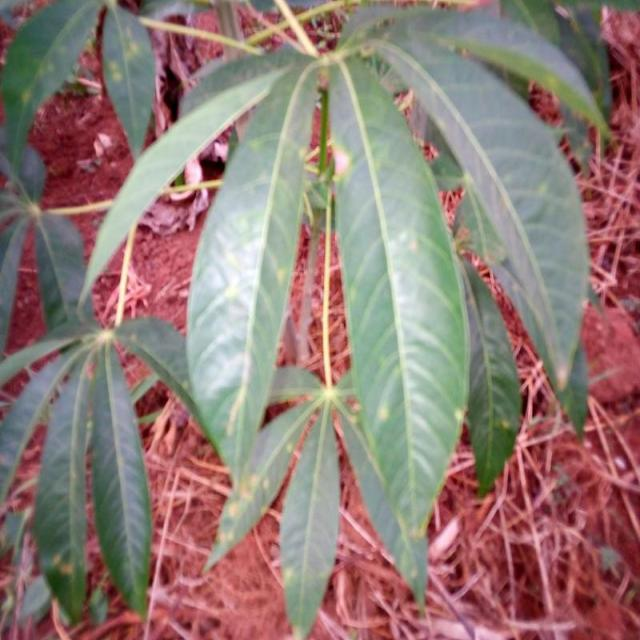cassava leaf: (2, 2, 612, 634), (339, 6, 593, 440), (328, 47, 472, 609), (184, 42, 322, 490)
